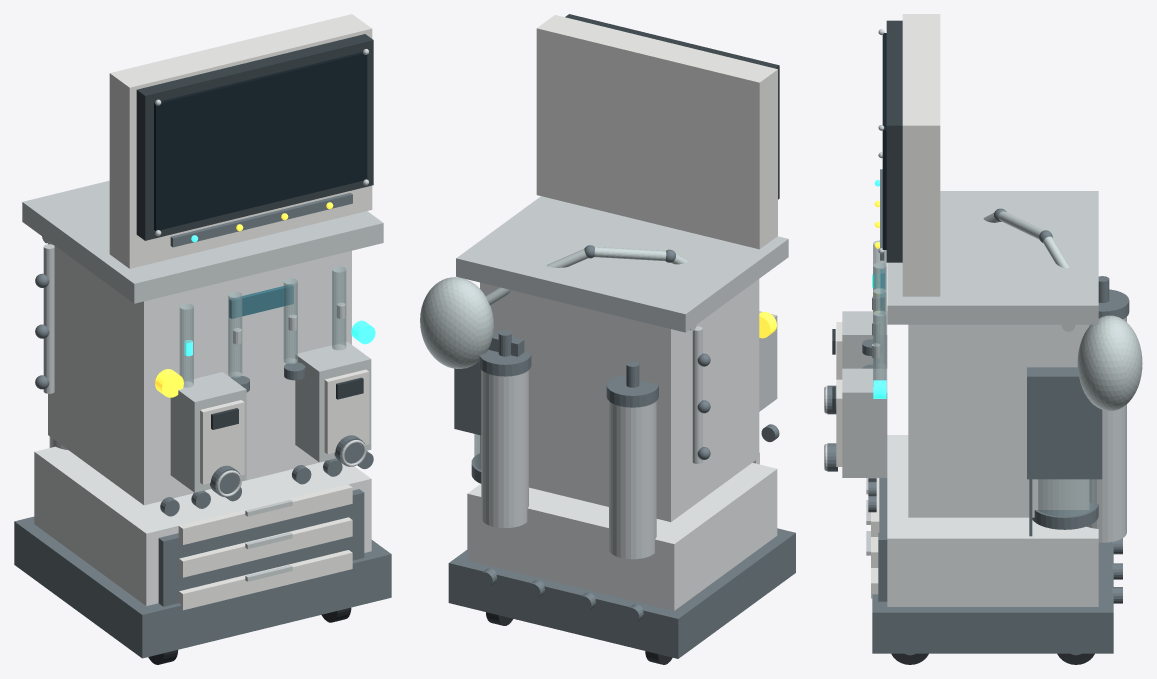
The model's file is workstation.glb.
3 views of the same model, side by side, from view 1: azimuth 30°, elevation 25°; view 2: azimuth 150°, elevation 25°; view 3: azimuth 270°, elevation 25° (orthographic). The views are drawn at different scales.
Parts seen in each view (by area): view 1: anesthesia_upper_body, anesthesia_screen_glass, anesthesia_base_skirt, anesthesia_lower_chassis, anesthesia_worktop, anesthesia_front_bezel, anesthesia_screen_bezel, anesthesia_front_panel, vaporizer_0_body, vaporizer_1_body, anesthesia_drawer_2, anesthesia_drawer_1 (+13 smaller); view 2: anesthesia_front_bezel, anesthesia_upper_body, anesthesia_worktop, anesthesia_lower_chassis, anesthesia_base_skirt, backup_cylinder_1, backup_cylinder_0, reservoir_bag, breathing_system_housing, vaporizer_0_body, anesthesia_side_rail, anesthesia_screen_bezel (+3 smaller); view 3: anesthesia_upper_body, anesthesia_worktop, anesthesia_lower_chassis, anesthesia_base_skirt, anesthesia_front_bezel, breathing_system_housing, reservoir_bag, vaporizer_1_body, anesthesia_screen_bezel, backup_cylinder_1, co2_absorber_canister, vaporizer_0_body (+8 smaller).
Part boxes in pixels (box(x1,y1,x2,y2)): anesthesia_upper_body: box(48, 242, 351, 505); anesthesia_screen_glass: box(154, 52, 367, 230); anesthesia_base_skirt: box(14, 516, 391, 658); anesthesia_lower_chassis: box(34, 446, 371, 605); anesthesia_worktop: box(22, 180, 383, 303); anesthesia_front_bezel: box(109, 14, 372, 268); anesthesia_screen_bezel: box(136, 34, 373, 240); anesthesia_front_panel: box(158, 489, 364, 606); vaporizer_0_body: box(170, 372, 246, 492); vaporizer_1_body: box(295, 341, 371, 462); anesthesia_drawer_2: box(178, 484, 352, 544); anesthesia_drawer_1: box(179, 517, 352, 577); anesthesia_front_bezel: box(536, 15, 777, 249); anesthesia_upper_body: box(480, 279, 759, 521); anesthesia_worktop: box(456, 196, 788, 332); anesthesia_lower_chassis: box(467, 462, 777, 610); anesthesia_base_skirt: box(448, 528, 795, 658); backup_cylinder_1: box(481, 370, 528, 527); backup_cylinder_0: box(609, 401, 656, 559); reservoir_bag: box(420, 277, 493, 368); breathing_system_housing: box(454, 332, 524, 435); vaporizer_0_body: box(759, 311, 777, 411); anesthesia_side_rail: box(692, 326, 702, 463); anesthesia_screen_bezel: box(565, 14, 779, 199); anesthesia_upper_body: box(908, 324, 1089, 517); anesthesia_worktop: box(887, 191, 1098, 324); anesthesia_lower_chassis: box(887, 435, 1098, 606); anesthesia_base_skirt: box(872, 542, 1113, 653); anesthesia_front_bezel: box(902, 14, 940, 296); breathing_system_housing: box(1027, 367, 1102, 479); reservoir_bag: box(1077, 315, 1142, 410); vaporizer_1_body: box(842, 368, 887, 477); anesthesia_screen_bezel: box(886, 20, 902, 262); backup_cylinder_1: box(1086, 404, 1126, 542); co2_absorber_canister: box(1038, 479, 1095, 516); vaporizer_0_body: box(842, 311, 887, 368).
Size of the model in its own units: 0.823 by 1.61 by 0.8431.
